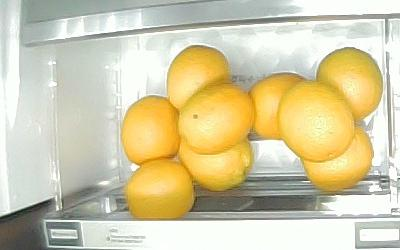orange: (278, 81, 354, 162), (178, 82, 257, 154), (302, 124, 374, 192), (316, 47, 383, 120), (126, 158, 195, 219), (248, 72, 309, 140), (122, 95, 180, 165), (167, 45, 231, 108), (179, 141, 254, 191)
